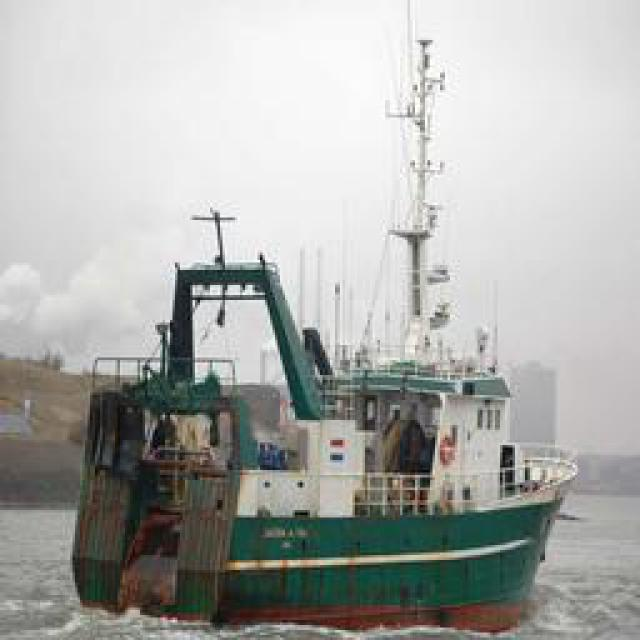Ship: (72, 141, 572, 631)
